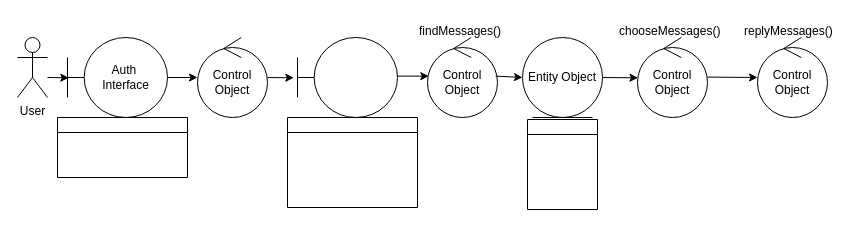
The diagram is 860 pixels wide and 229 high, and some of its shapes have lost their labels. The shapes that lost their labels are listed below. From the top down, each one's centre as x and y in pixels, then its label:
(x=347, y=77): Messenger Interface
(x=122, y=147): + simpleLogin() + logByTouchOrFace()
(x=352, y=162): + showMessages() + findMessages() + chooseMessages() + replyMessages()
(x=562, y=164): - id - authorID - recieverID - content
